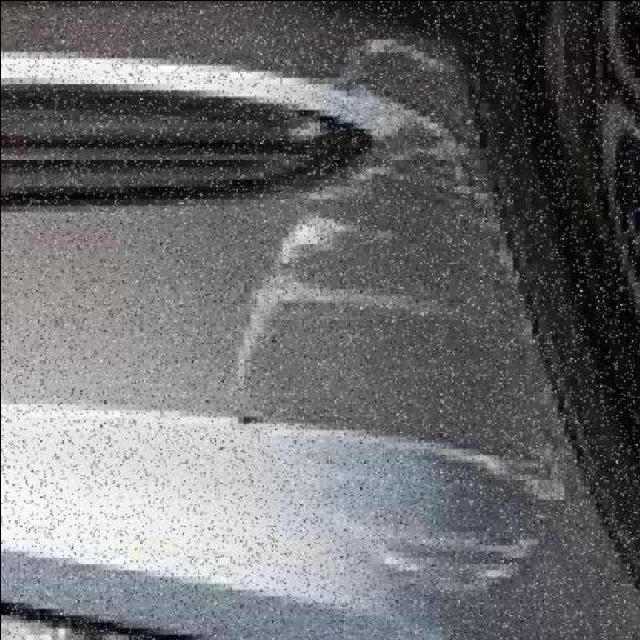front-bumper-dent: (6, 0, 640, 620)
